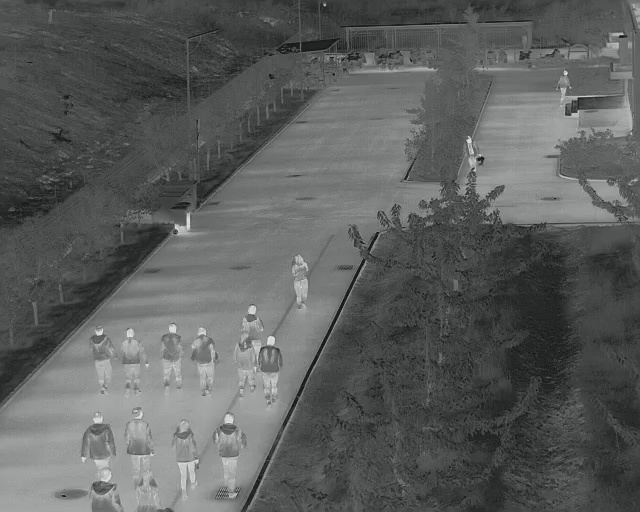person: (210, 413, 244, 498), (169, 418, 198, 499), (125, 406, 154, 479), (80, 411, 115, 471), (87, 324, 116, 395), (119, 327, 149, 395), (190, 326, 217, 395), (257, 336, 283, 405), (157, 322, 183, 391), (87, 467, 122, 512), (233, 330, 256, 398), (132, 470, 162, 512), (288, 253, 309, 310), (240, 302, 263, 338), (461, 136, 480, 171), (554, 68, 570, 106)
